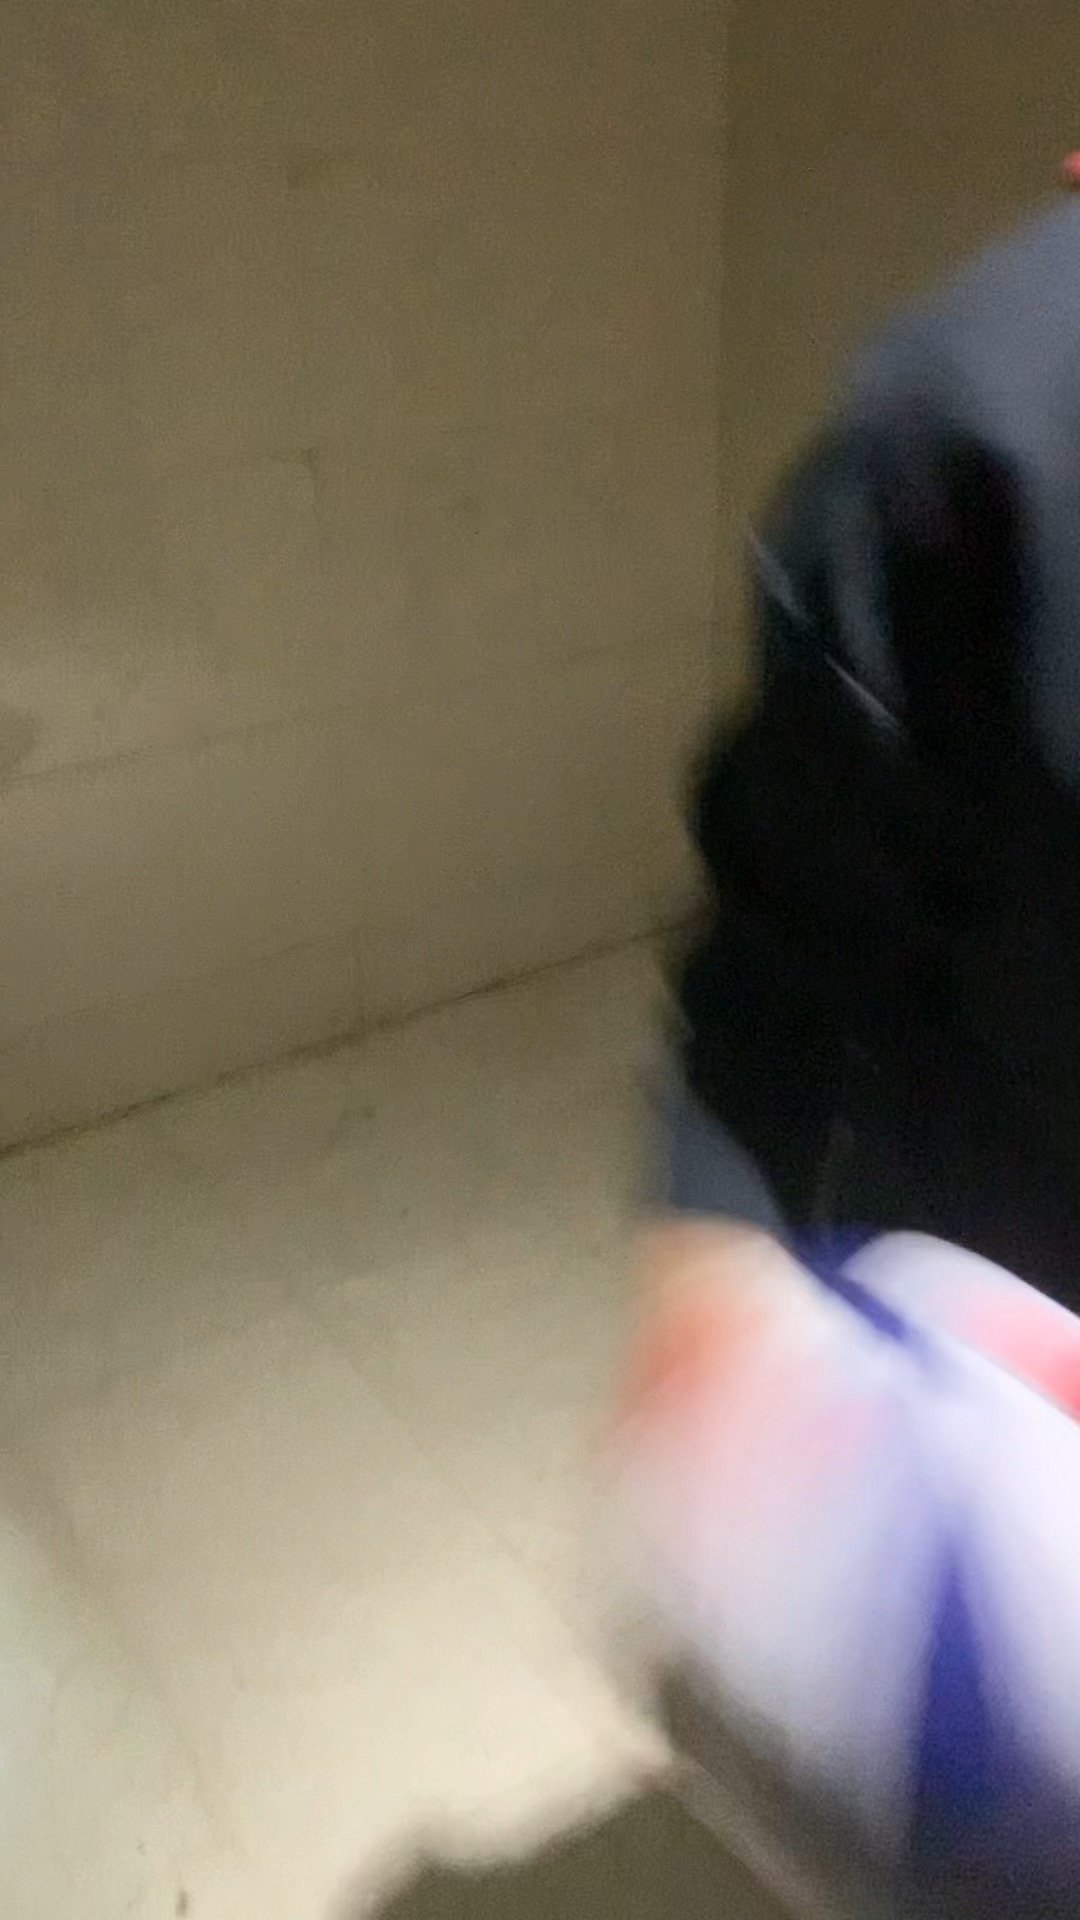ball: (571, 1222, 1080, 1920)
